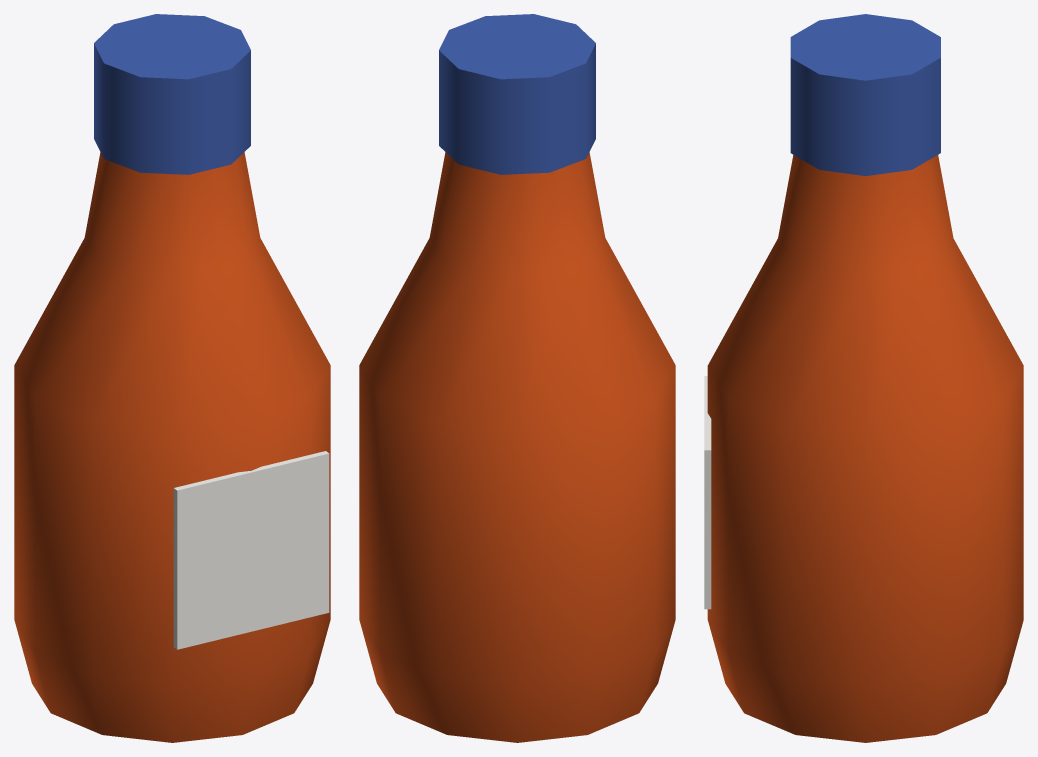
Rendered from sauce_bottle.glb.
3 renders of one model, left to right at view 1: azimuth 30°, elevation 25°; view 2: azimuth 150°, elevation 25°; view 3: azimuth 270°, elevation 25°, orthographic.
Parts seen in each view (by area): view 1: root; view 2: root; view 3: root.
Part boxes in pixels (x1=…): root: x1=14, y1=14, x2=330, y2=742; root: x1=359, y1=14, x2=675, y2=742; root: x1=704, y1=14, x2=1023, y2=742.
Bounding box in the file's own units: 0.18 × 0.4 × 0.182.
